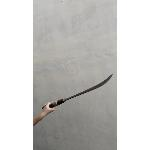Golok: (40, 74, 116, 112)
